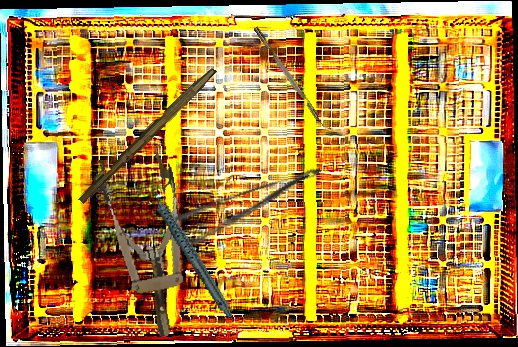Chopper: (253, 22, 334, 135)
Dressing Forceps: (169, 164, 331, 251)
Handpiece: (147, 170, 234, 329)
Scalpel Handle: (76, 62, 218, 208)
Speculum: (90, 147, 203, 344)
